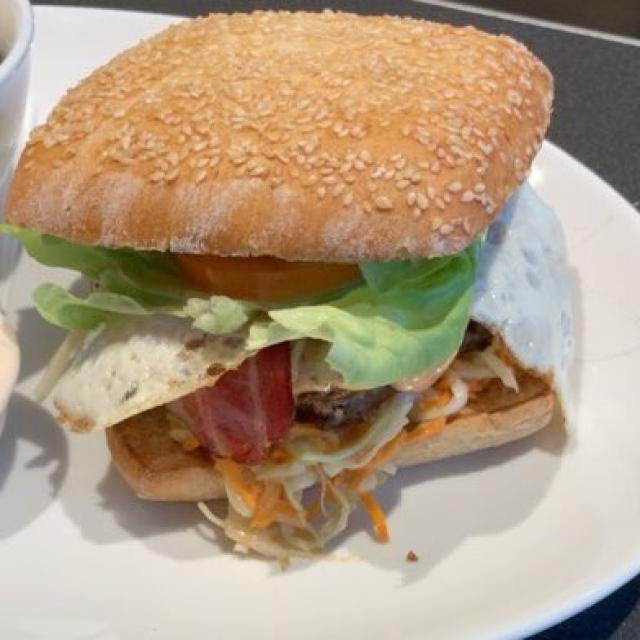bacon-frying: (188, 350, 292, 469)
egg: (22, 180, 561, 442)
hamburger-bread-meat-ketchup: (22, 18, 562, 501)
